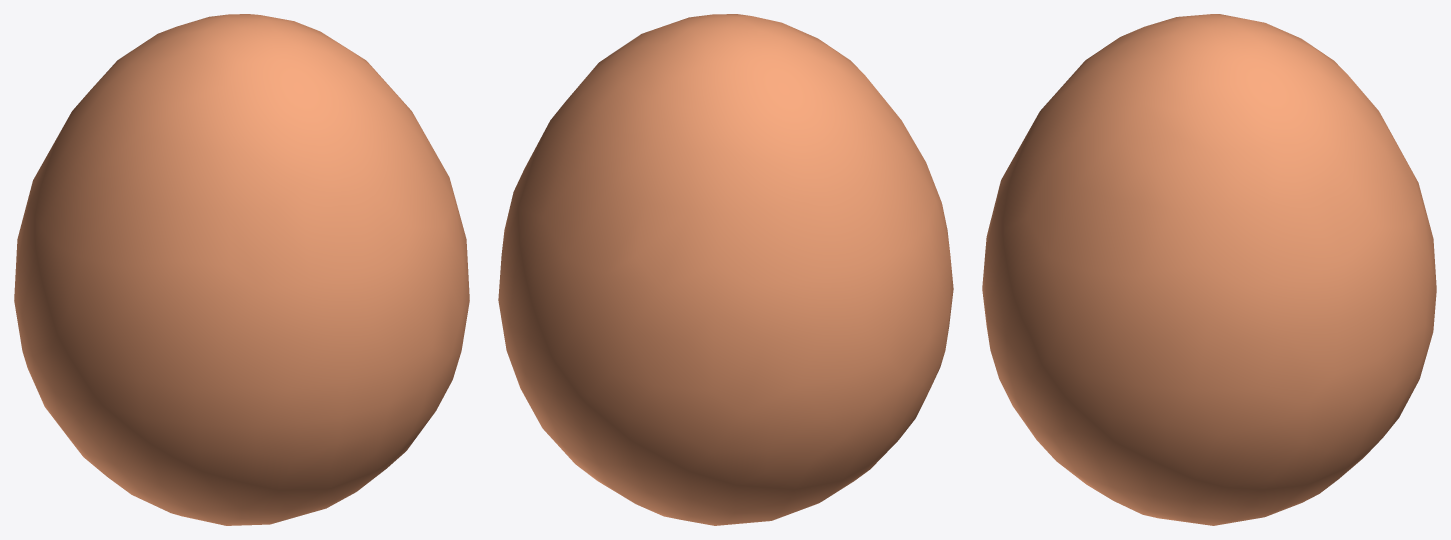
Rendered from Egg_7.obj.
The picture shows the model from 3 angles, left to right: view 1: azimuth 30°, elevation 25°; view 2: azimuth 150°, elevation 25°; view 3: azimuth 270°, elevation 25°; orthographic projection.
Visible parts, largest first — view 1: egg_7; view 2: egg_7; view 3: egg_7.
Boxes of the visible parts, <box> form: egg_7: <box>14,14,469,525</box>; egg_7: <box>498,14,953,525</box>; egg_7: <box>982,14,1436,525</box>.
Bounding box in the file's own units: 0.0509 × 0.059 × 0.0508.
